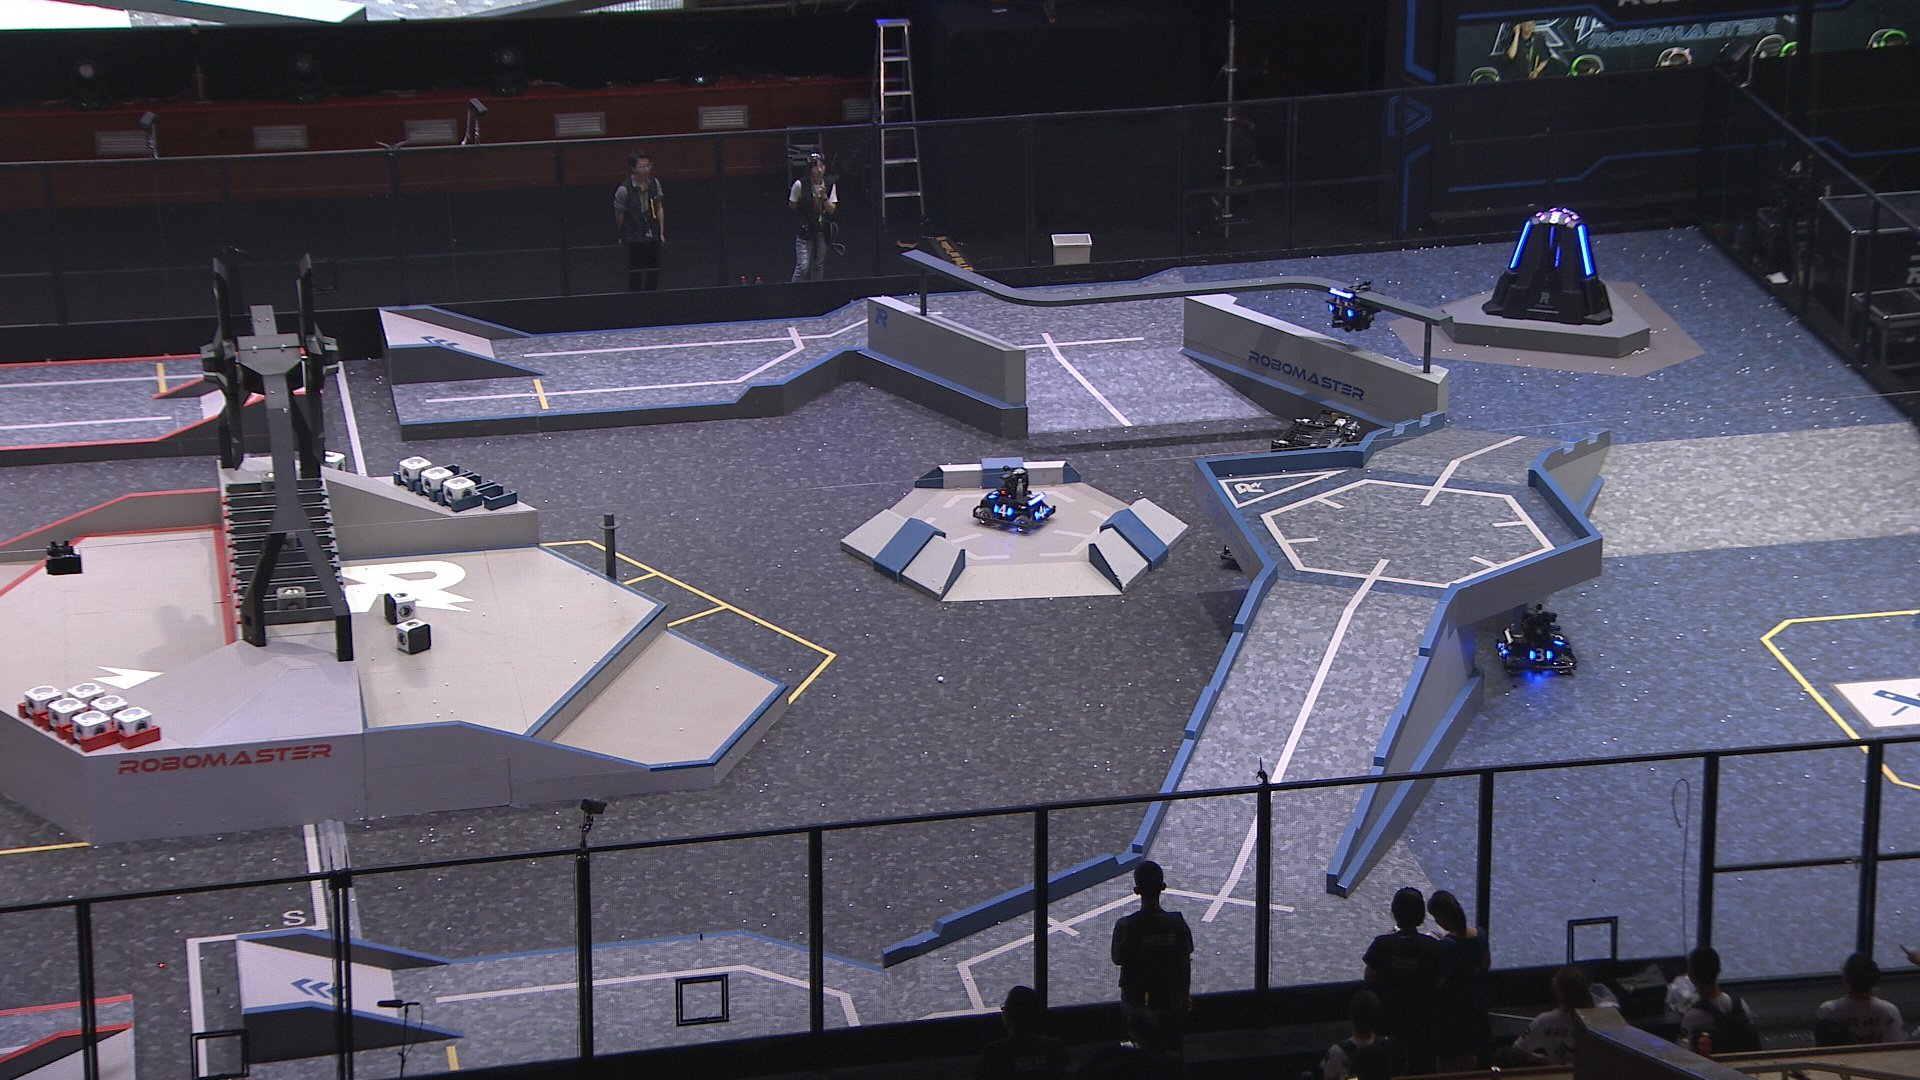armor: (1509, 219, 1534, 272), (1575, 224, 1596, 278), (1327, 301, 1357, 323), (1523, 646, 1553, 669), (992, 502, 1015, 518), (1029, 504, 1048, 522), (1551, 626, 1567, 647), (1545, 224, 1557, 251), (1495, 641, 1510, 659), (986, 487, 1001, 501)
base: (1481, 204, 1617, 324)
car: (1259, 410, 1370, 524), (1493, 597, 1585, 680), (973, 462, 1062, 537)
ignore: (1538, 208, 1572, 228)
watcher: (1321, 277, 1385, 334)
